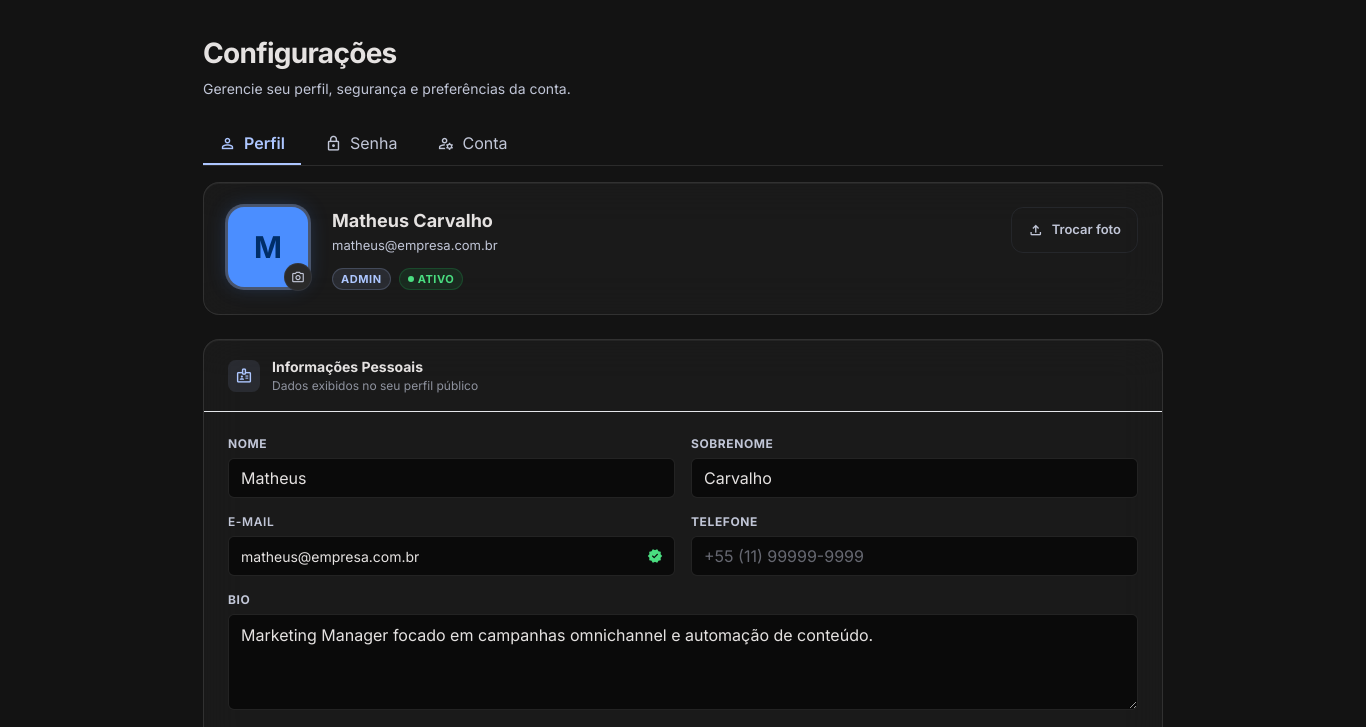
UserSettingsPage › switches to account tab
The image size is (1366, 727).
Click the tab "Conta": (472, 144) [422,123,524,165]
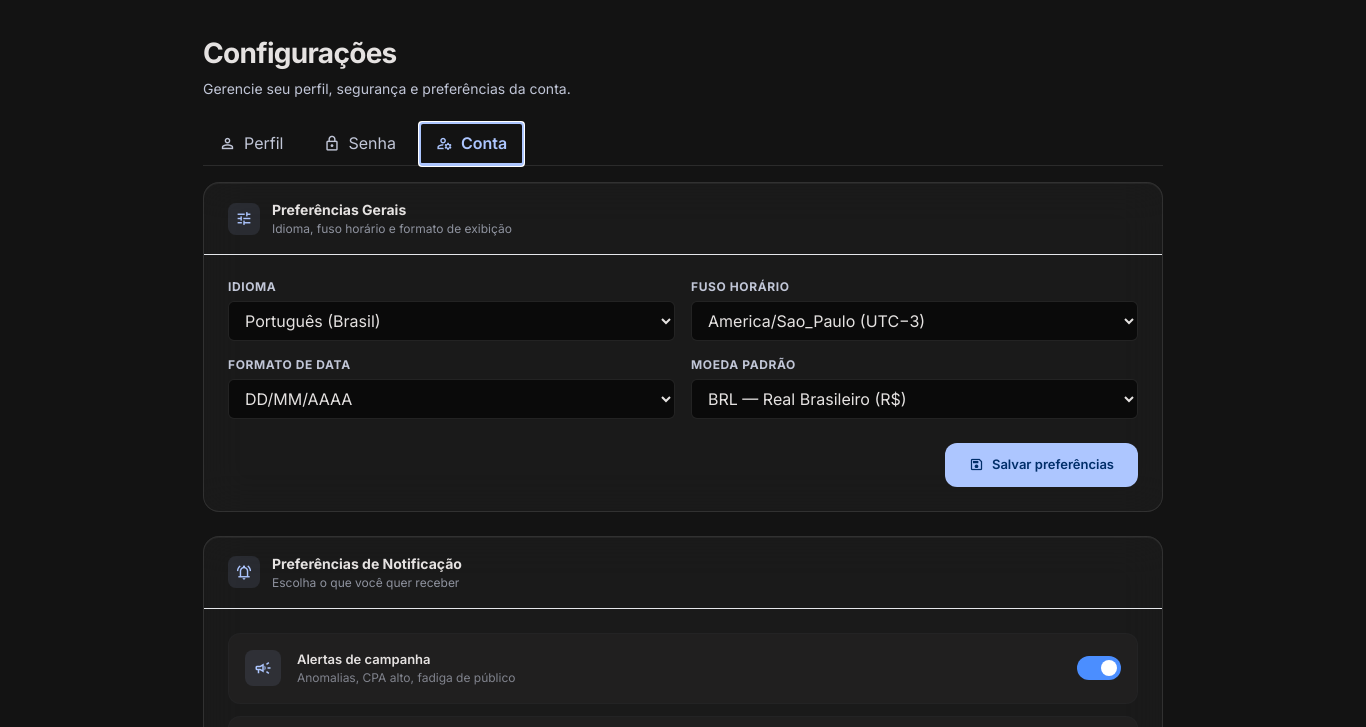
Now the heading "Preferências Gerais" is shown, box [272,201,406,218]
